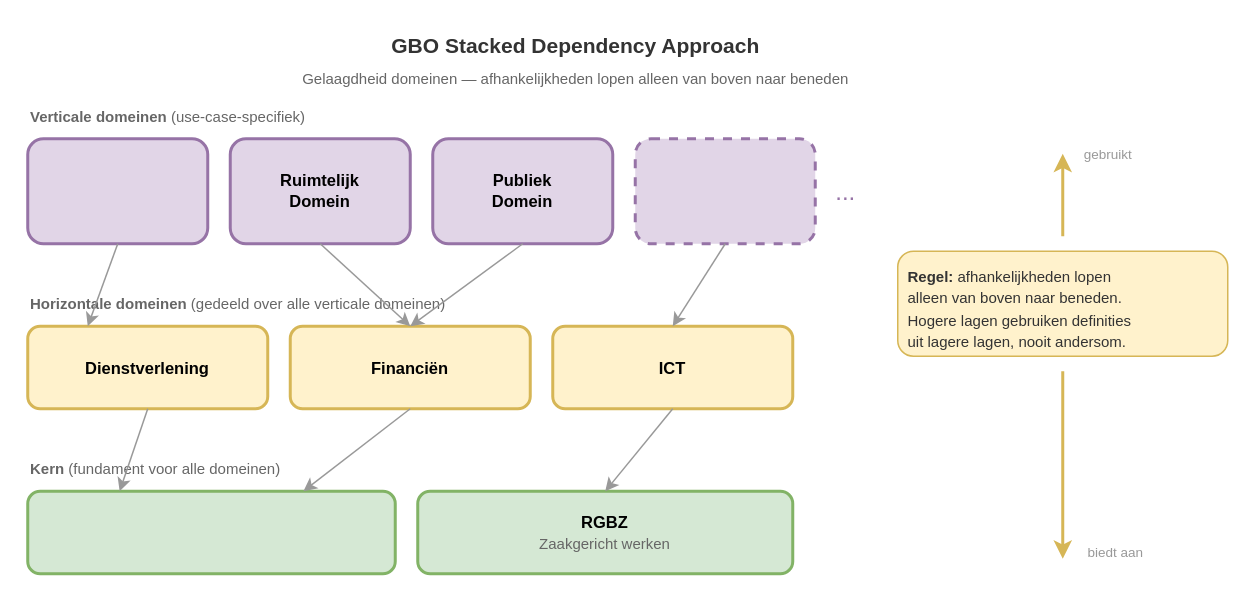
Some shapes in this 1254 by 600 pixel diagram are drawn without their labels. Each missing label, with the centre of its shape:
Overige Domeinen: the point at 724,190
RSGB Basisregistraties: the point at 211,531
Sociaal Domein: the point at 117,190
